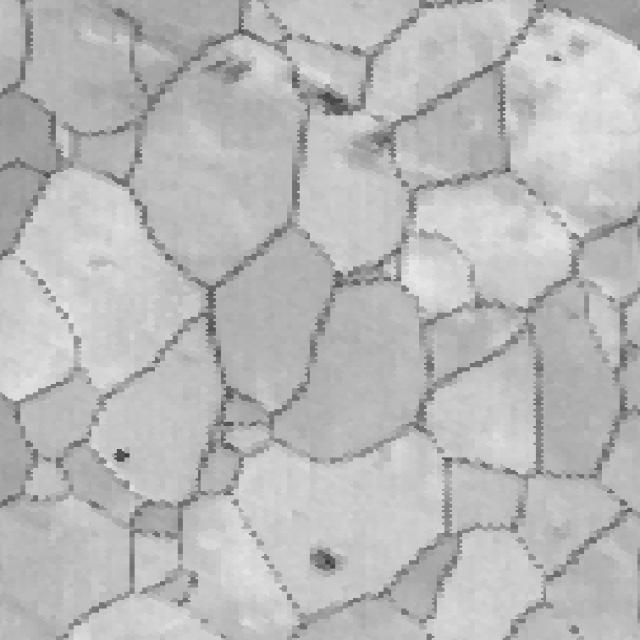good_void: (308, 83, 356, 127), (205, 51, 254, 83), (303, 547, 352, 577), (101, 441, 143, 470), (81, 251, 121, 274), (544, 47, 575, 66), (561, 619, 589, 640), (217, 437, 244, 457), (426, 625, 454, 640)
